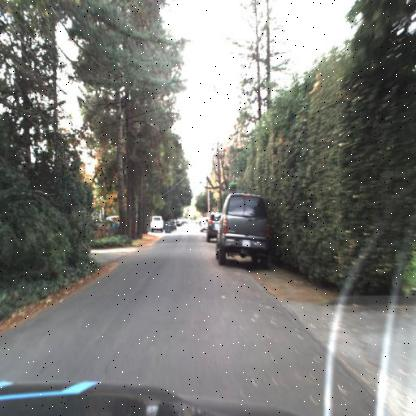car: (215, 190, 270, 267), (205, 209, 222, 244), (148, 212, 165, 235)
